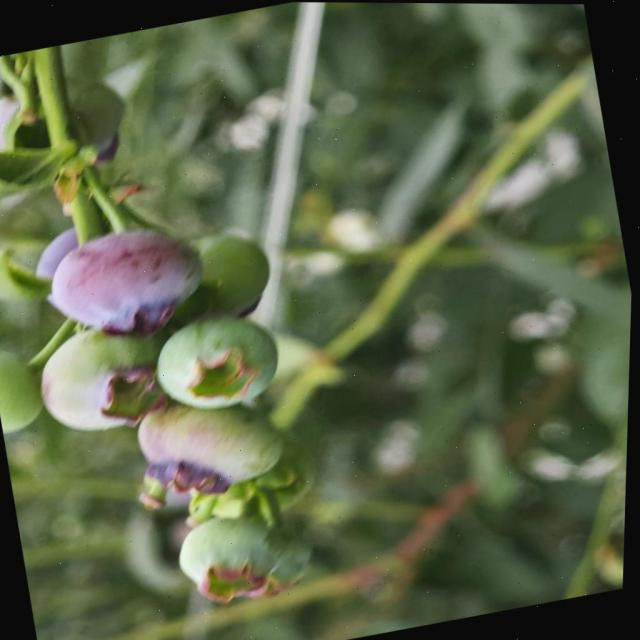Semi-RipeBlueBerry: (41, 218, 214, 342)
UnripeBlueBerry: (134, 386, 297, 504), (32, 319, 178, 443), (146, 306, 290, 419)
